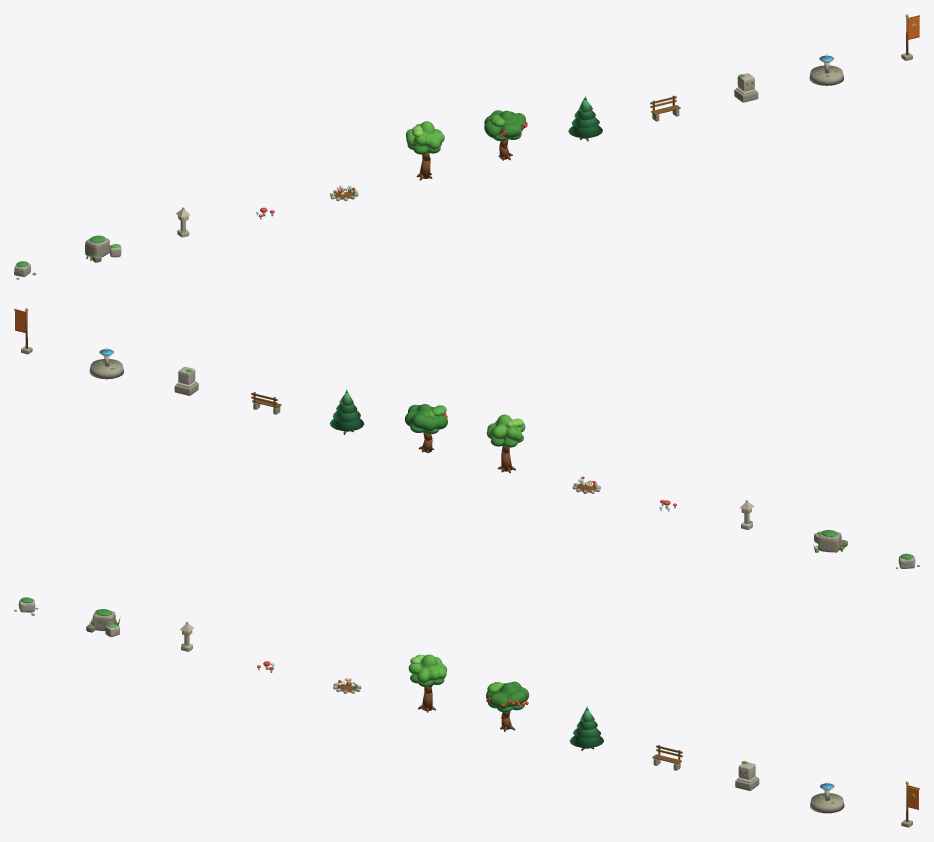
Rendered from deco.glb.
3 renders of one model, top to bottom at view 1: azimuth 30°, elevation 25°; view 2: azimuth 150°, elevation 25°; view 3: azimuth 330°, elevation 25°, orthographic.
Visible parts, largest first — view 1: feuillage.001, feuillage, bassin; view 2: feuillage.001, feuillage, bassin; view 3: feuillage.001, feuillage, bassin.
Boxes of the visible parts, x1,y1,x2,y2 form: feuillage.001: (484, 110, 525, 137); feuillage: (406, 121, 444, 149); bassin: (809, 65, 843, 85); feuillage.001: (404, 404, 447, 431); feuillage: (486, 414, 525, 441); bassin: (89, 359, 123, 379); feuillage.001: (486, 681, 528, 708); feuillage: (408, 654, 447, 682); bassin: (810, 793, 844, 813).
Bounding box in the file's own units: 45.09 × 2.62 × 1.83.
